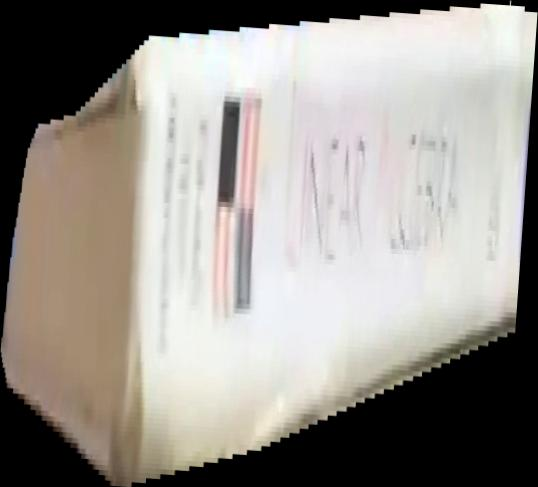flat: (1, 1, 538, 487)
